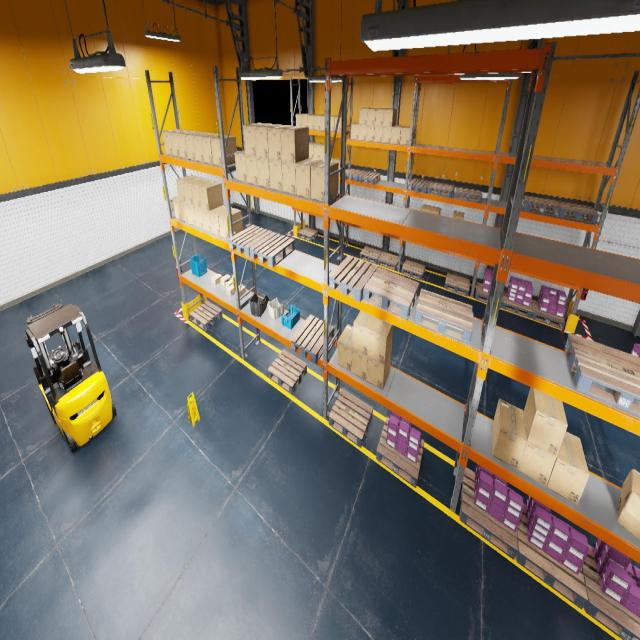box: (524, 387, 568, 457), (547, 432, 589, 504), (518, 411, 556, 486), (492, 399, 526, 470), (617, 469, 640, 540), (368, 317, 393, 364), (366, 346, 392, 390), (311, 160, 338, 202), (352, 310, 376, 356), (280, 126, 309, 163), (296, 158, 322, 198), (267, 125, 295, 161), (254, 124, 282, 158), (243, 122, 268, 156), (210, 135, 237, 166), (218, 207, 243, 240), (198, 181, 224, 211), (337, 324, 353, 372), (209, 204, 232, 237), (201, 134, 224, 164), (192, 133, 215, 162), (185, 132, 208, 160), (190, 179, 212, 208), (177, 131, 200, 158), (183, 177, 205, 205), (170, 130, 192, 157), (162, 129, 184, 155), (176, 175, 197, 202), (351, 348, 368, 380), (268, 159, 282, 191), (282, 162, 296, 194), (234, 150, 247, 182), (257, 157, 270, 188), (245, 155, 258, 185), (201, 208, 212, 233), (193, 206, 204, 229), (172, 195, 182, 220), (400, 126, 413, 145), (391, 125, 404, 144), (186, 204, 196, 226), (179, 201, 189, 223), (384, 108, 396, 126), (375, 108, 387, 125), (367, 108, 378, 125), (359, 108, 370, 124), (382, 126, 392, 143), (320, 144, 331, 159), (321, 115, 332, 130), (314, 143, 324, 159), (309, 142, 319, 158), (308, 114, 318, 130), (366, 125, 375, 142), (314, 114, 323, 130), (374, 126, 383, 142), (330, 115, 338, 132), (351, 123, 359, 140), (235, 284, 246, 296), (211, 273, 222, 285), (220, 274, 231, 286), (358, 124, 366, 140), (452, 210, 464, 220), (302, 114, 312, 126), (334, 159, 341, 176), (226, 283, 235, 296), (225, 274, 233, 288), (334, 116, 341, 132), (296, 113, 304, 126), (429, 206, 441, 214), (420, 204, 431, 212), (330, 158, 338, 161)
forklift: (25, 303, 116, 453)
pallets: (515, 503, 588, 609), (564, 333, 640, 417), (581, 544, 640, 640), (459, 467, 518, 559), (376, 417, 424, 487), (414, 289, 473, 344), (364, 267, 419, 319), (328, 389, 372, 447), (329, 254, 378, 302), (290, 315, 334, 363), (268, 350, 307, 394), (250, 232, 294, 268), (228, 225, 272, 257), (531, 300, 565, 330), (190, 300, 222, 330), (557, 201, 599, 223), (502, 290, 533, 318), (523, 196, 560, 216), (475, 282, 503, 308), (444, 273, 470, 296), (401, 260, 425, 280), (427, 181, 455, 198), (455, 188, 482, 204), (360, 246, 382, 264), (408, 178, 432, 194), (378, 251, 398, 270), (298, 227, 318, 241), (358, 172, 381, 184), (345, 169, 365, 181), (382, 232, 396, 236)
